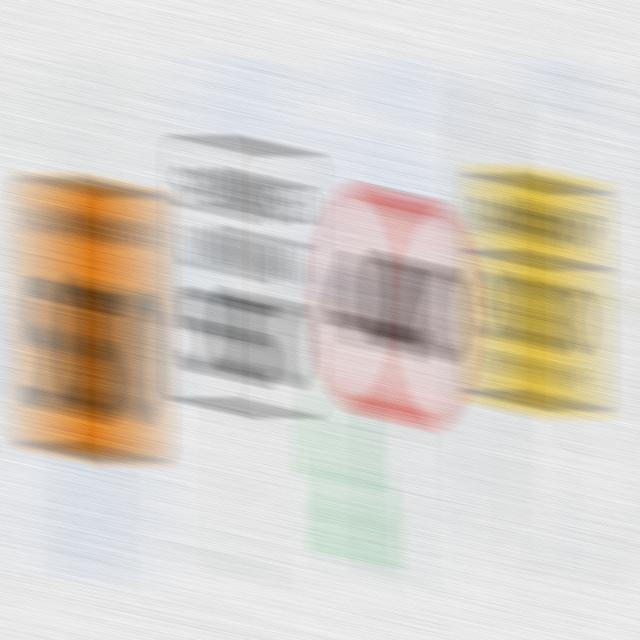speedLimit30: (484, 166, 590, 414)
speedLimit50: (187, 136, 302, 418), (33, 181, 147, 462)
